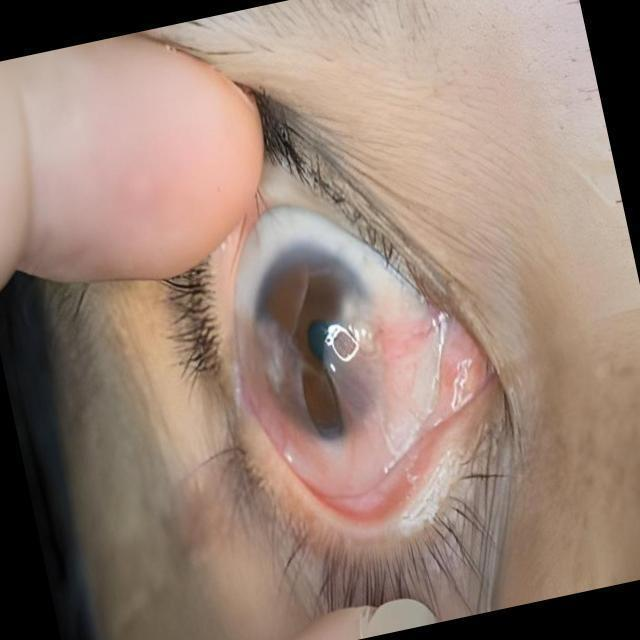Pterygium: (309, 247, 496, 470), (210, 286, 325, 476)
